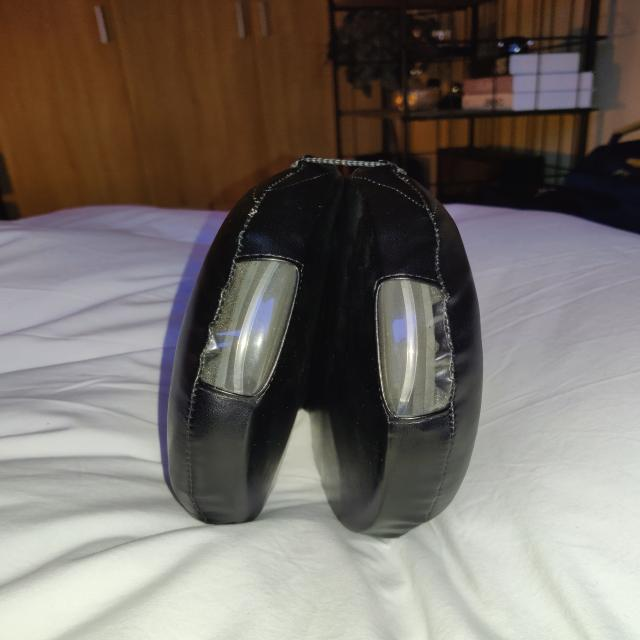paddle: (162, 152, 488, 541)
